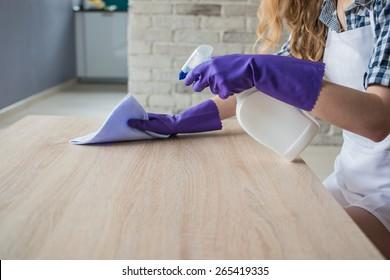gloves: (183, 55, 326, 114), (127, 99, 223, 133)
